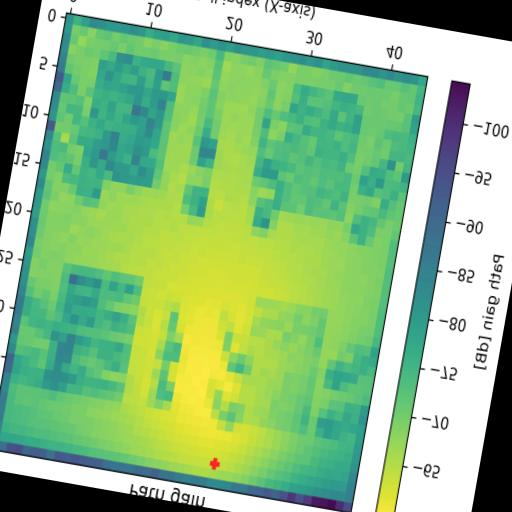Concrete: (234, 296, 330, 434)
Glass: (39, 259, 144, 404)
Metal: (272, 82, 366, 220)
Wood: (87, 51, 182, 188)
